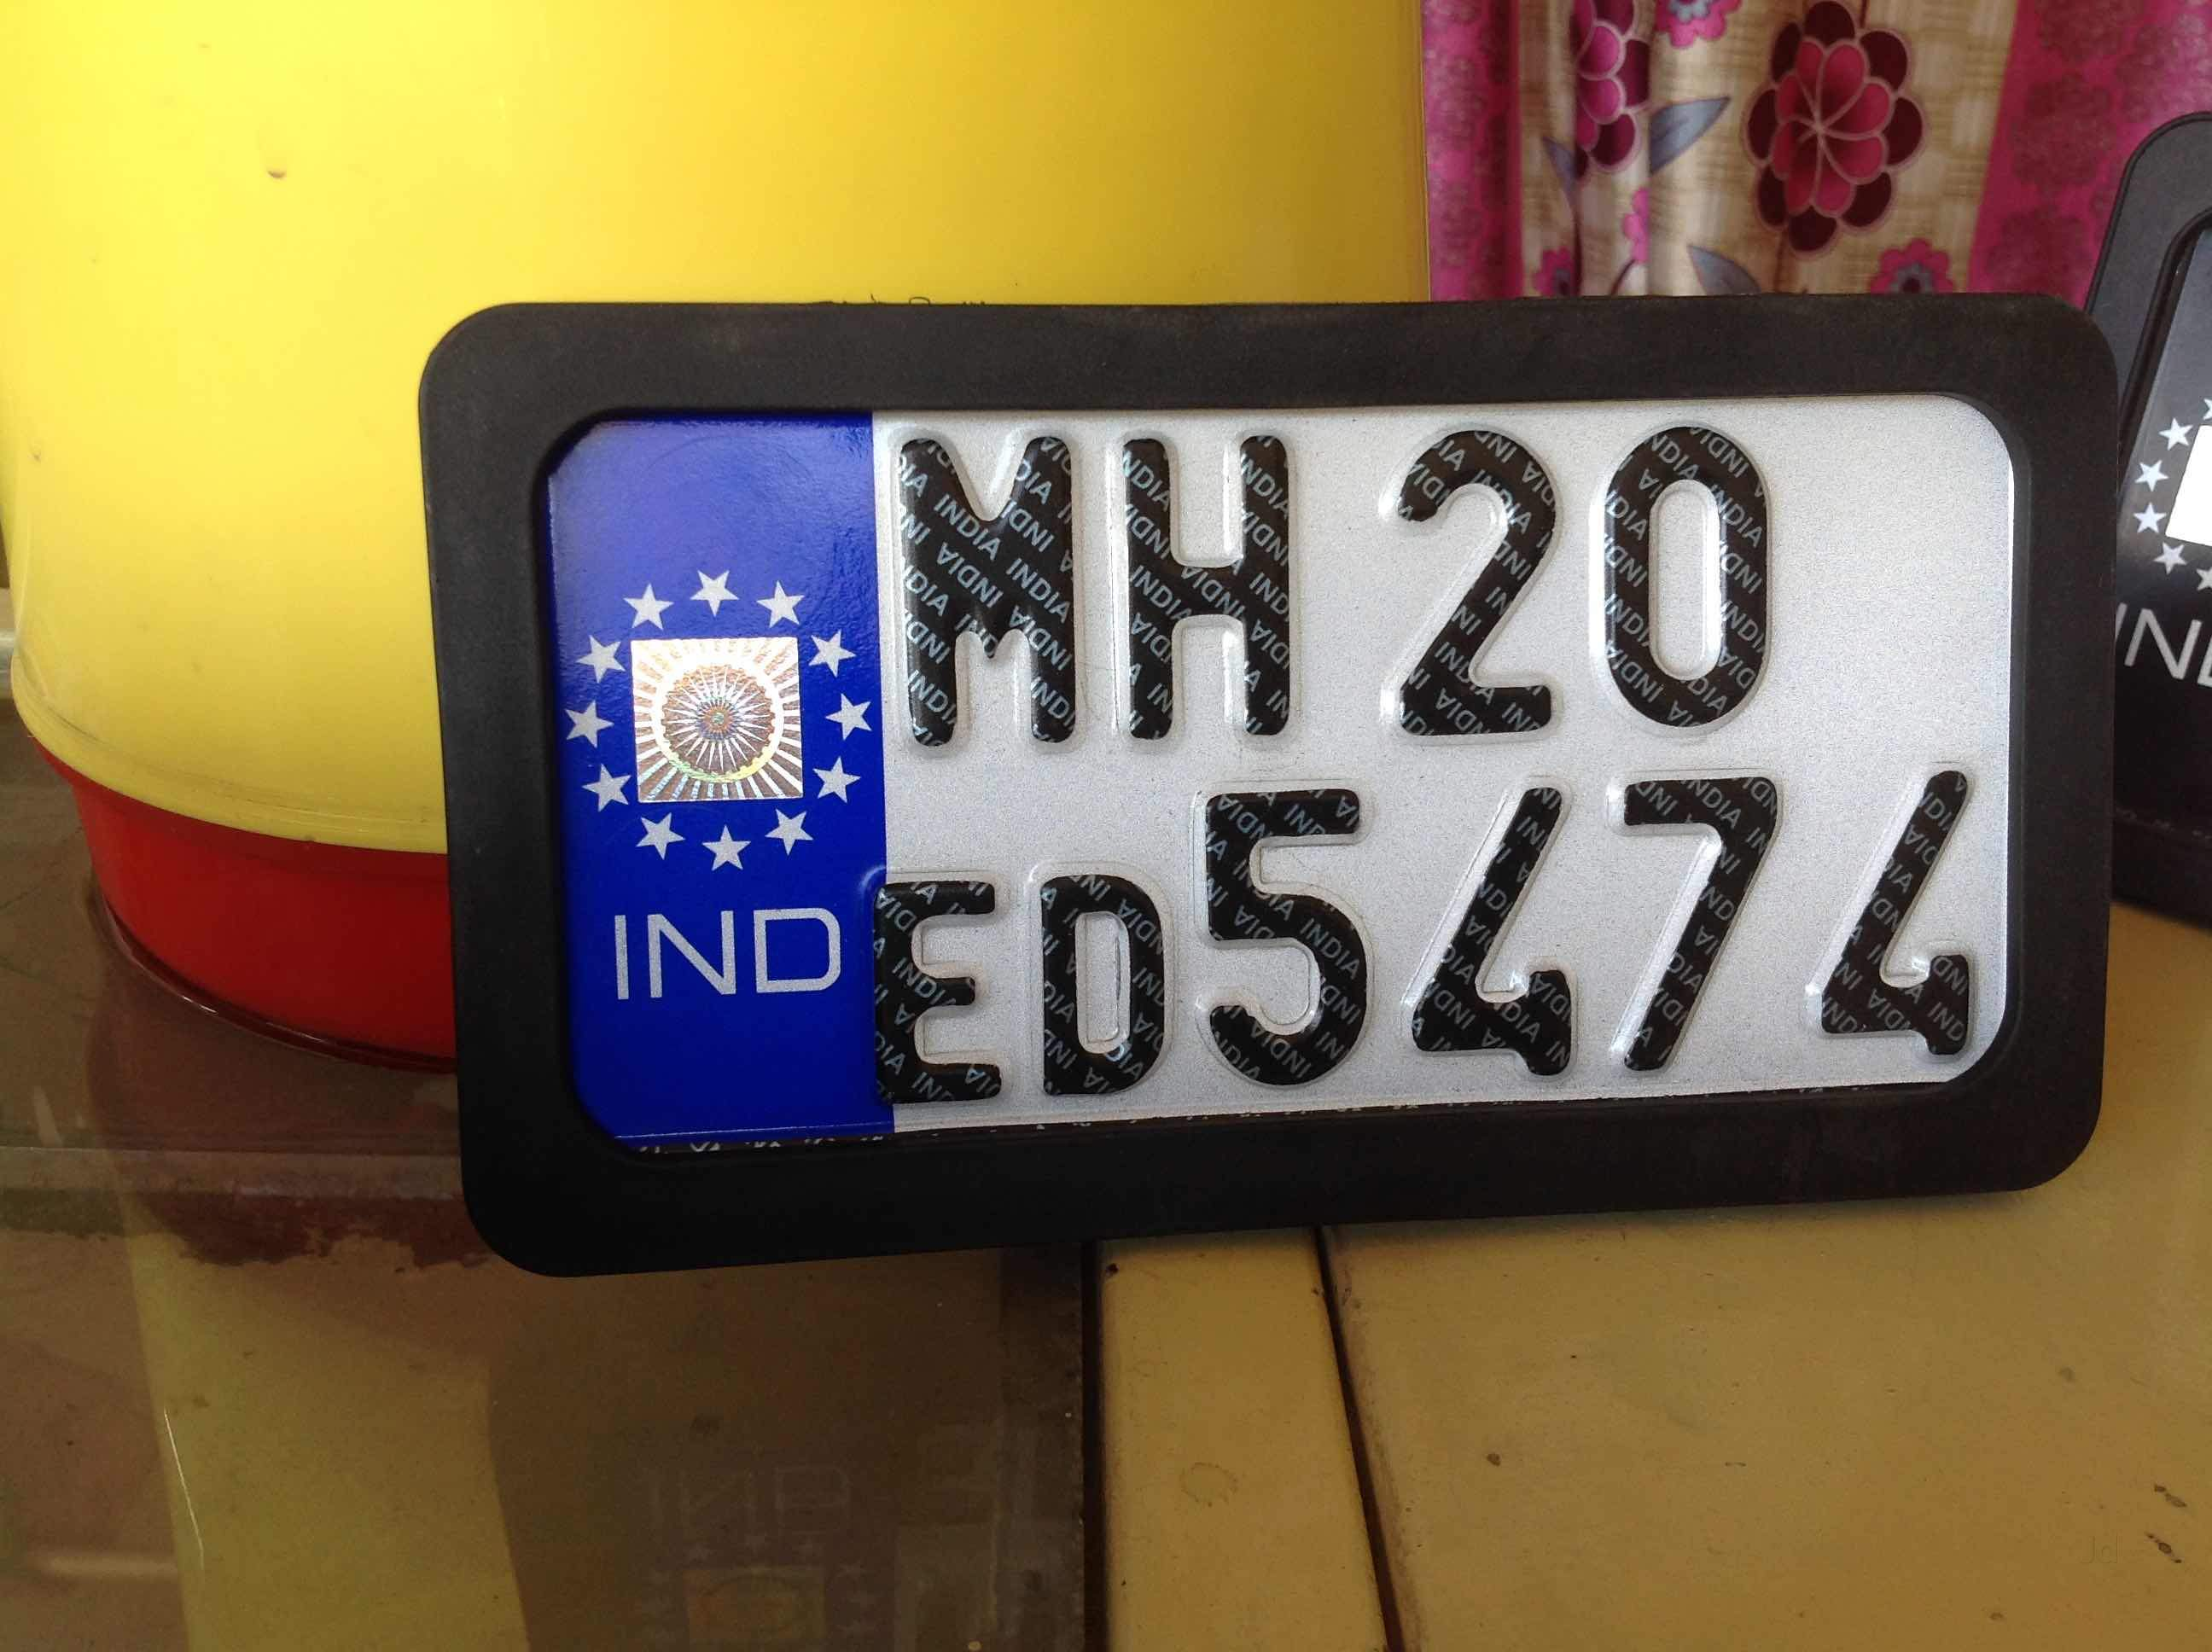number_plate: (420, 284, 2123, 1288)
